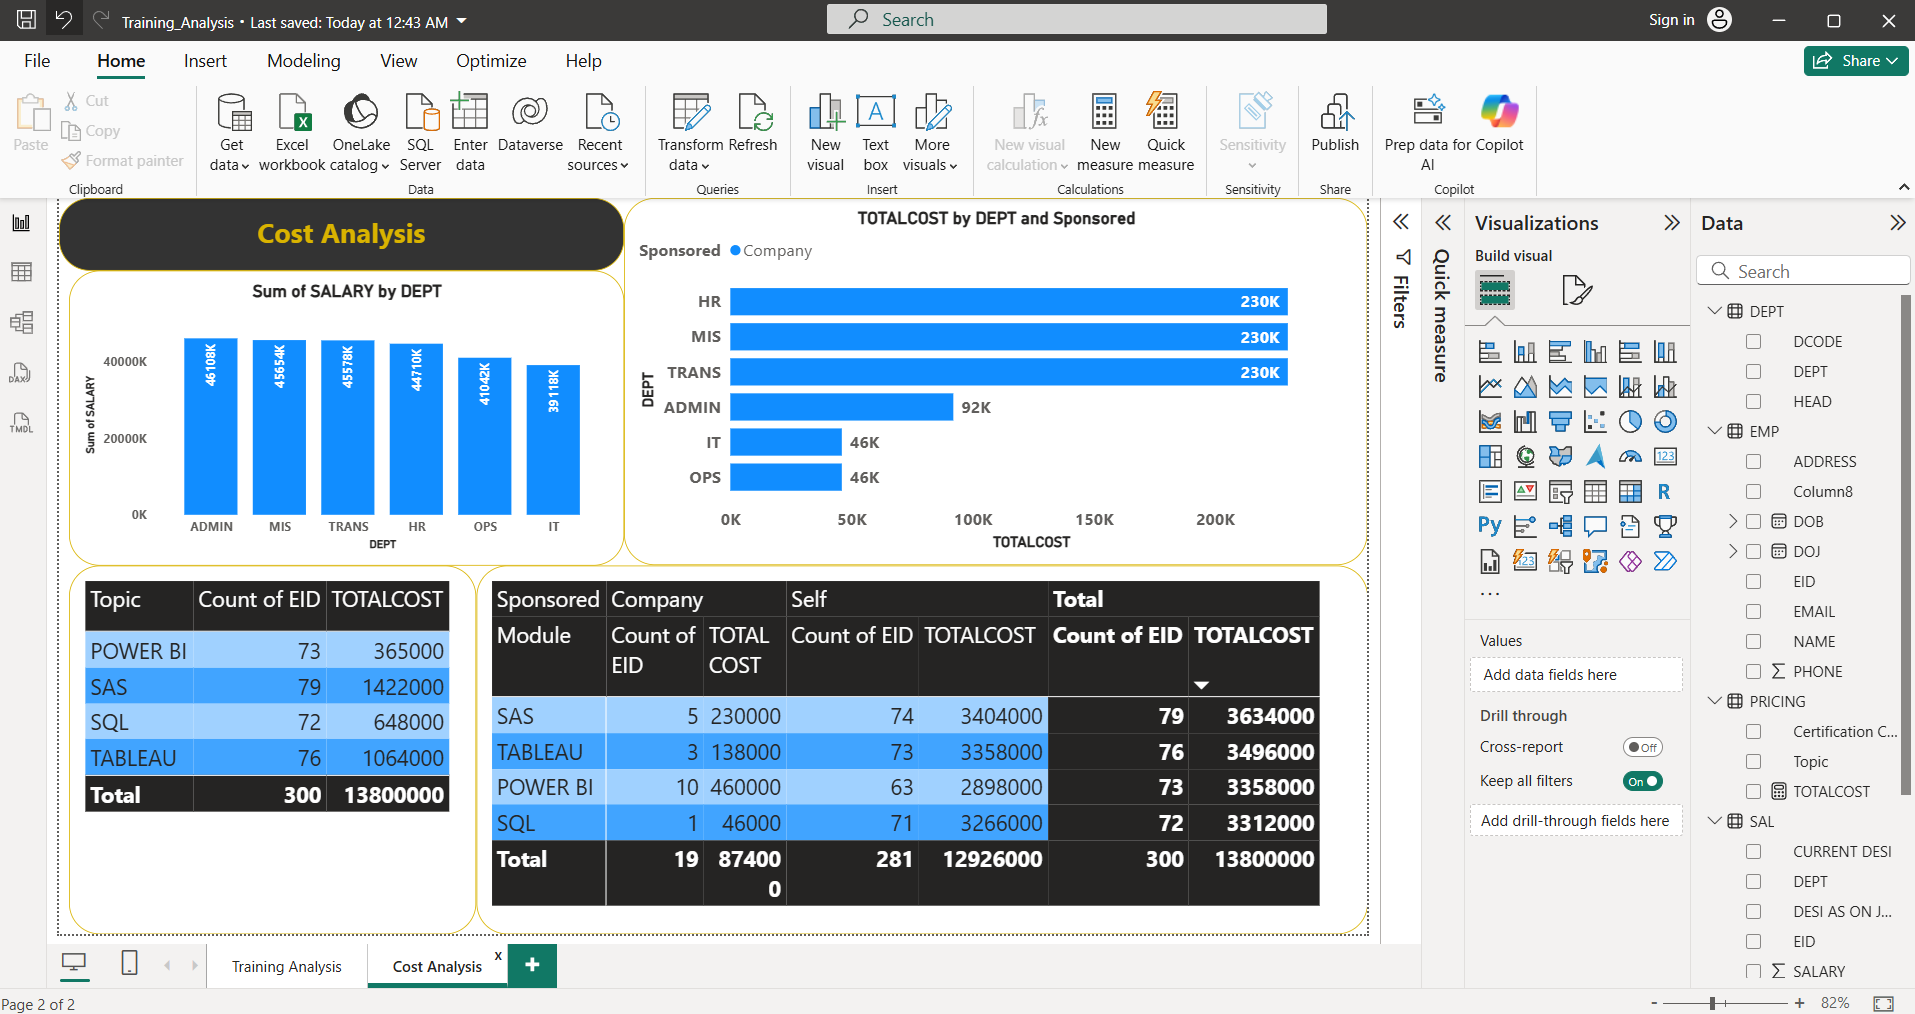

The page's visual inventory and layout, read from the dashboard file:
{"tool":"powerbi","page":{"name":"Cost Analysis","canvas":[1280,720],"ordinal":1},"visuals":[{"type":"columnChart","fields":{"Category":["DEPT.DEPT"],"Y":["Sum(SAL.SALARY)"]},"box":[9.8,70.9,542.9,288.6],"z":0},{"type":"tableEx","fields":{"Values":["PRICING.Topic","TRAINING.EID","PRICING.Measure"]},"box":[9.8,359.5,398.6,360.7],"z":1},{"type":"barChart","fields":{"Y":["PRICING.TOTALCOST"],"Series":["TRAINING.Sponsored"],"Category":["DEPT.DEPT"]},"box":[552.7,0,727.6,359.5],"z":2},{"type":"pivotTable","fields":{"Rows":["TRAINING.Module"],"Columns":["TRAINING.Sponsored"],"Values":["CountNonNull(TRAINING.EID)","PRICING.TOTALCOST"]},"box":[408.4,359.5,871.9,360.7],"z":3},{"type":"textbox","box":[0,0,552.7,70.9],"z":4}]}

Visuals, with their boxes on the page's 1280x720 design canvas (x1, y1, x2, y2). These are canvas units, not pixel positions in the 1915x1014 screenshot, which may show the page scaled, cropped or inside an application window:
columnChart - DEPT.DEPT x Sum(SAL.SALARY): (10,71,553,360)
tableEx - PRICING.Topic x TRAINING.EID: (10,360,408,720)
barChart - PRICING.TOTALCOST x TRAINING.Sponsored: (553,0,1280,360)
pivotTable - TRAINING.Module x TRAINING.Sponsored: (408,360,1280,720)
textbox: (0,0,553,71)
